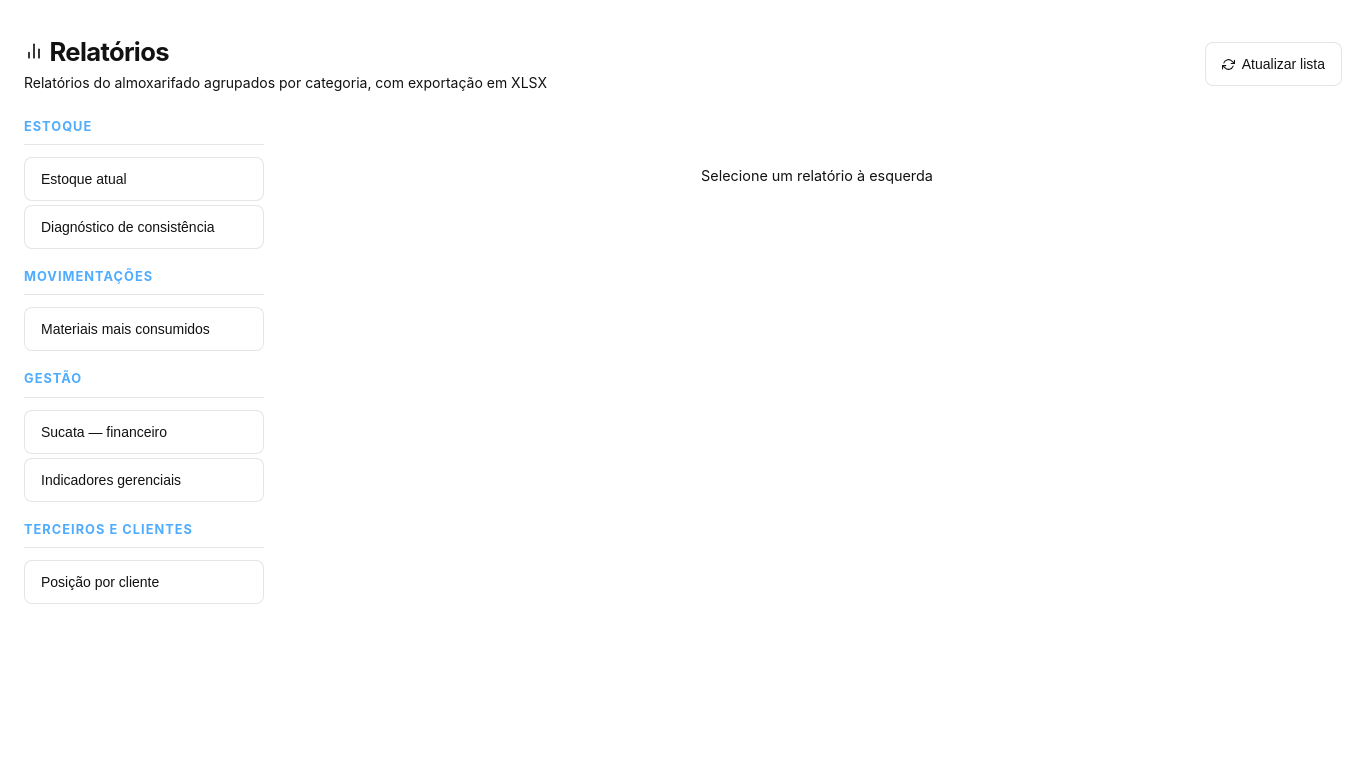
Scenario: RelatoriosAlmoxarifado — aviso de limite (campo `limite` da lista) › linhas === limite da lista (10, materiais-mais-consumidos) mostra o aviso
Click the button with test id "menu-relatorio-materiais-mais-consumidos" at (144, 329), box [24,307,264,351]
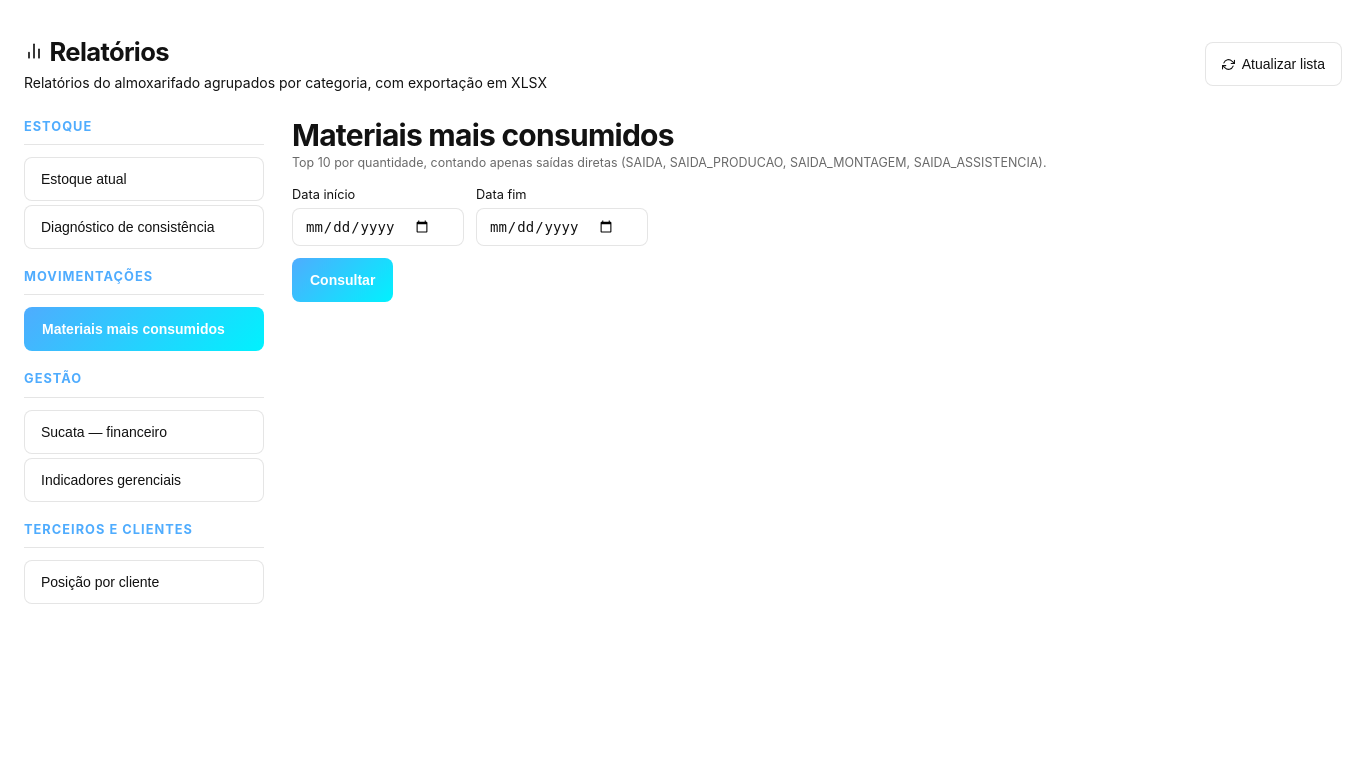
Click the button "Consultar" at (343, 280), box [292,258,393,302]
(page scrolled)
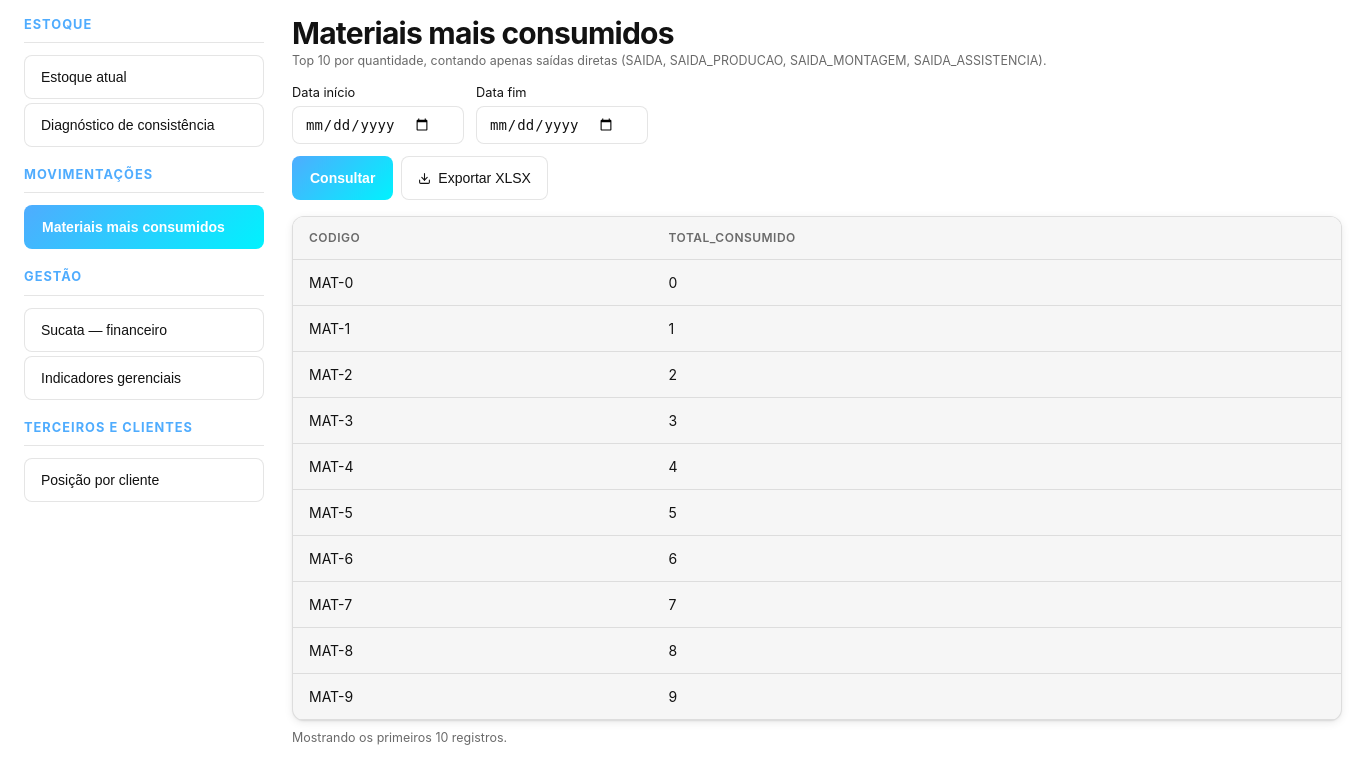
Expected: the text "Mostrando os primeiros 10 registros." is shown, [292,730,507,745]
Expected: the text with test id "aviso-limite" shows "10", [435,730,448,745]
